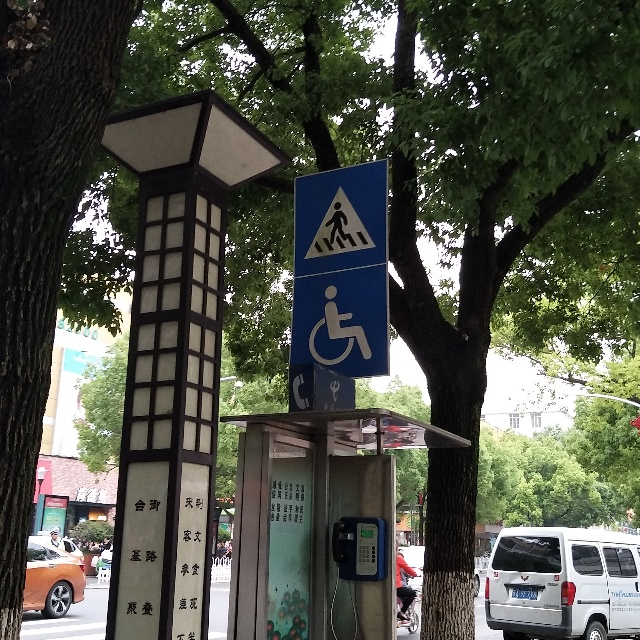crosswalk: (295, 158, 393, 273)
